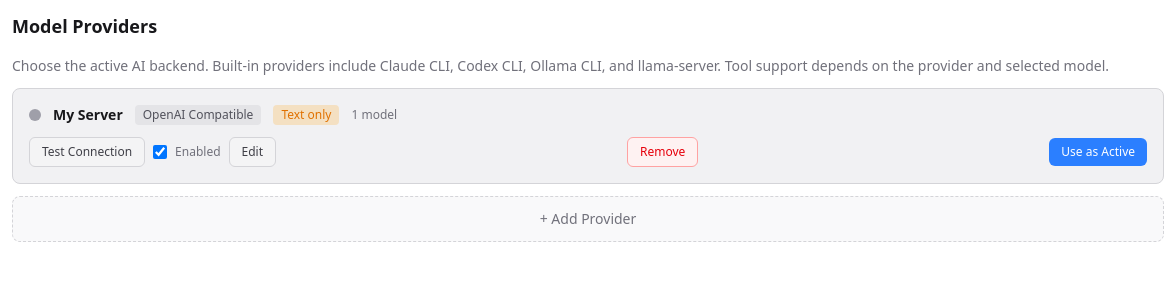
Test case: ProviderSection › Test Connection reports the checked status
Click the button "Test Connection": [87, 152] box top-left (29, 137), bottom-right (145, 167)
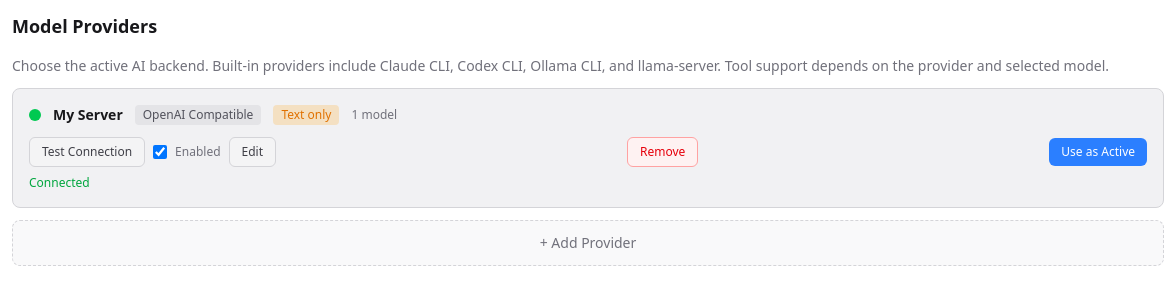
Expected: the text "Connected" is shown, top-left (29, 174), bottom-right (90, 191)
